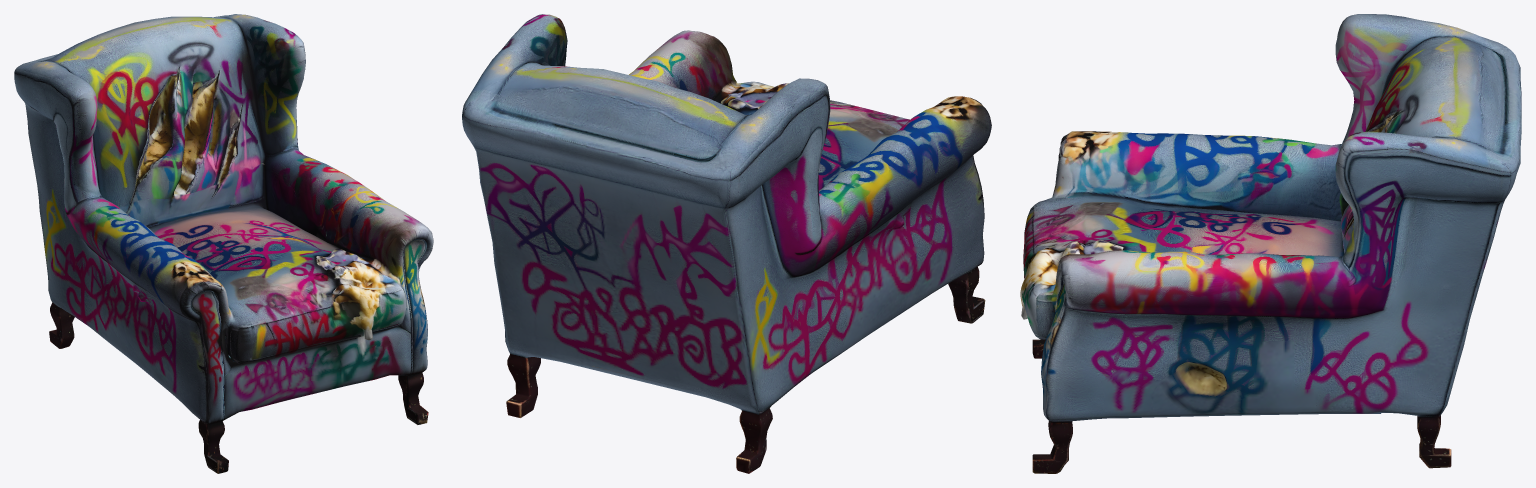
Rendered from couch2.glb.
3 renders of one model, left to right at view 1: azimuth 30°, elevation 25°; view 2: azimuth 150°, elevation 25°; view 3: azimuth 270°, elevation 25°, orthographic. The views are drawn at different scales.
Size of the model in its own units: 1.31 by 1.42 by 1.9.
1 material, 1 textured.
